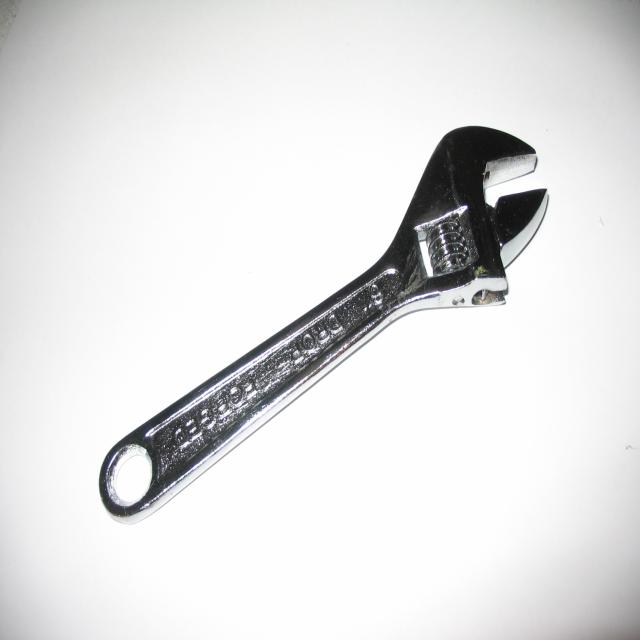wrench: (68, 70, 640, 627)
